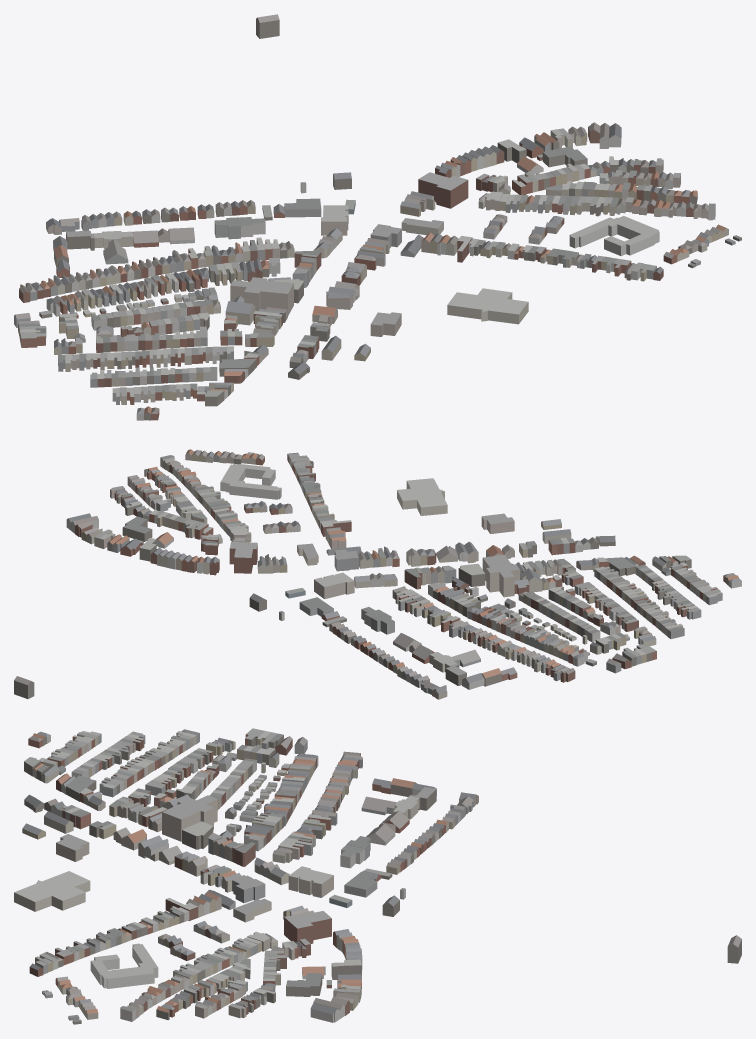
3 renders of one model, top to bottom at view 1: azimuth 30°, elevation 25°; view 2: azimuth 150°, elevation 25°; view 3: azimuth 270°, elevation 25°, orthographic. The views are drawn at different scales.
Visible parts, largest first — view 1: way/910489783, way/891315398, way/346991205, way/294418963, way/346655191, way/633104878, way/346991244; view 2: way/910489783, way/891315398, way/346991205, way/346655191, way/294418963, way/346991244, way/633104878, way/346991201, way/354395207, way/294418962; view 3: way/891315398, way/910489783, way/346991205, way/294418963, way/346655191, way/354395207, way/633104878, way/346991244, way/346991201, way/294418962, way/910489767.
Boxes of the visible parts, <box> form: way/910489783: <box>569,216,659,255</box>; way/891315398: <box>447,288,528,324</box>; way/346991205: <box>230,277,293,315</box>; way/294418963: <box>418,172,468,208</box>; way/346655191: <box>321,205,348,235</box>; way/633104878: <box>542,146,587,167</box>; way/346991244: <box>370,312,401,336</box>; way/910489783: <box>220,464,281,499</box>; way/891315398: <box>397,478,447,515</box>; way/346991205: <box>482,554,519,597</box>; way/346655191: <box>314,572,354,599</box>; way/294418963: <box>229,542,257,573</box>; way/346991244: <box>481,513,514,533</box>; way/633104878: <box>122,516,152,541</box>; way/346991201: <box>458,563,485,586</box>; way/354395207: <box>334,549,358,571</box>; way/294418962: <box>299,597,333,616</box>; way/891315398: <box>14,871,90,911</box>; way/910489783: <box>90,943,158,988</box>; way/346991205: <box>162,795,217,841</box>; way/294418963: <box>284,911,331,943</box>; way/346655191: <box>288,866,333,897</box>; way/354395207: <box>233,875,265,903</box>; way/633104878: <box>286,973,322,996</box>; way/346991244: <box>56,834,89,861</box>; way/346991201: <box>182,821,213,849</box>; way/294418962: <box>344,871,377,897</box>; way/910489767: <box>233,898,271,922</box>.
Bounding box in the file's own units: 516 × 31.11 × 510.
